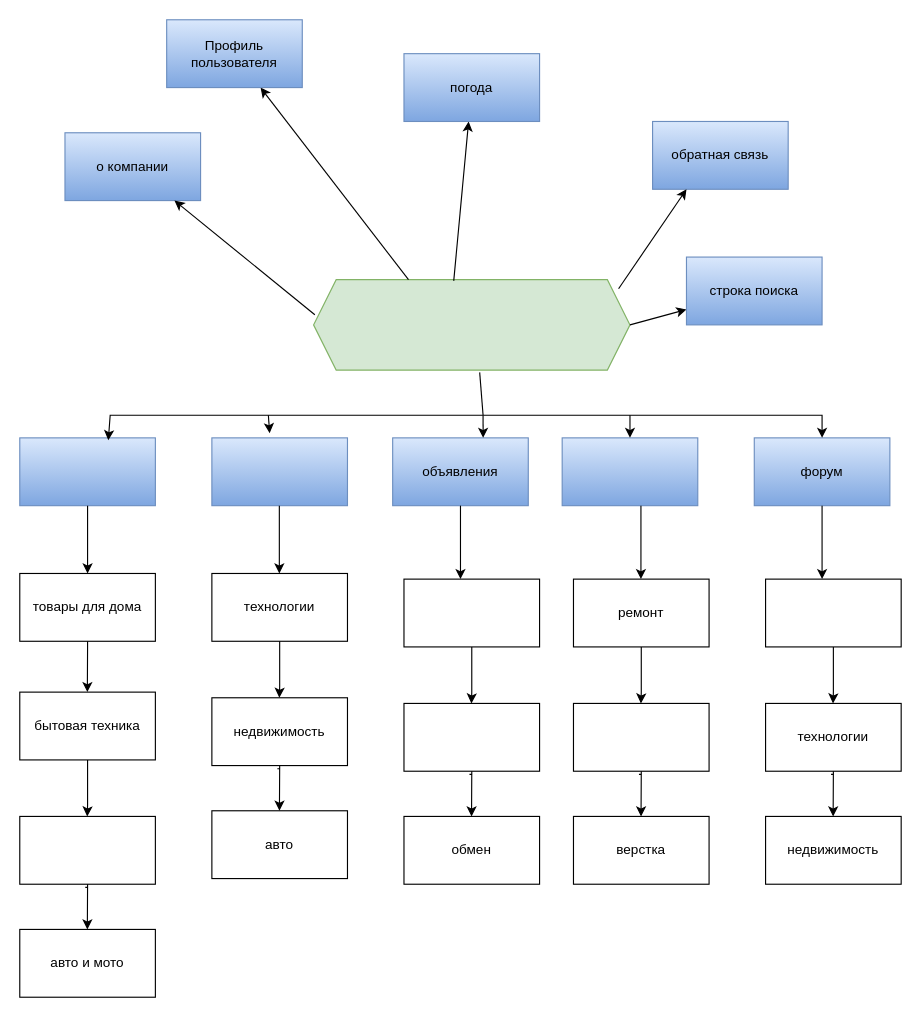
The diagram is 921 pixels wide and 1017 high, and some of its shapes have lost their labels. Each missing label, with the centre of its shape:
"важное" goes at point 832,612.
"Главная страница" goes at point 471,324.
"каталог" goes at point 87,471.
"компьютеры" goes at point 87,849.
"новости" goes at point 279,471.
"покупка" goes at point 471,612.
"продажа" goes at point 471,736.
"репетиторство" goes at point 640,736.
"услвги" goes at point 629,471.
